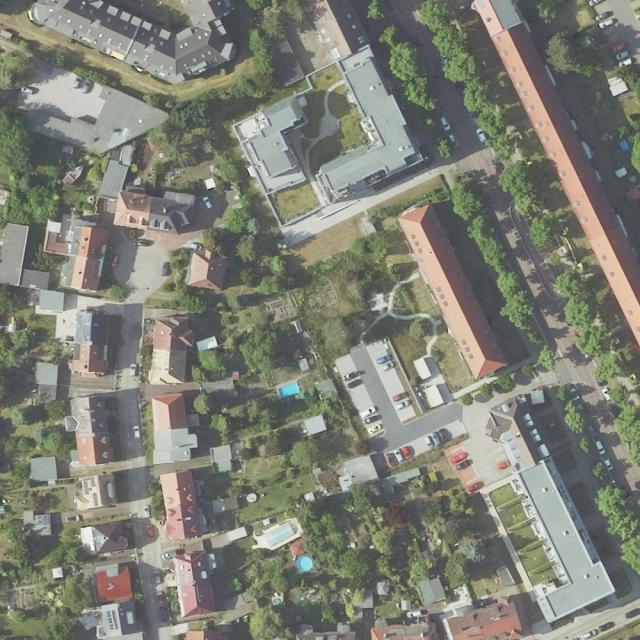PV: (83, 476, 96, 495), (37, 515, 47, 524), (94, 493, 99, 506), (88, 482, 92, 488)
ST: (73, 343, 80, 360)
